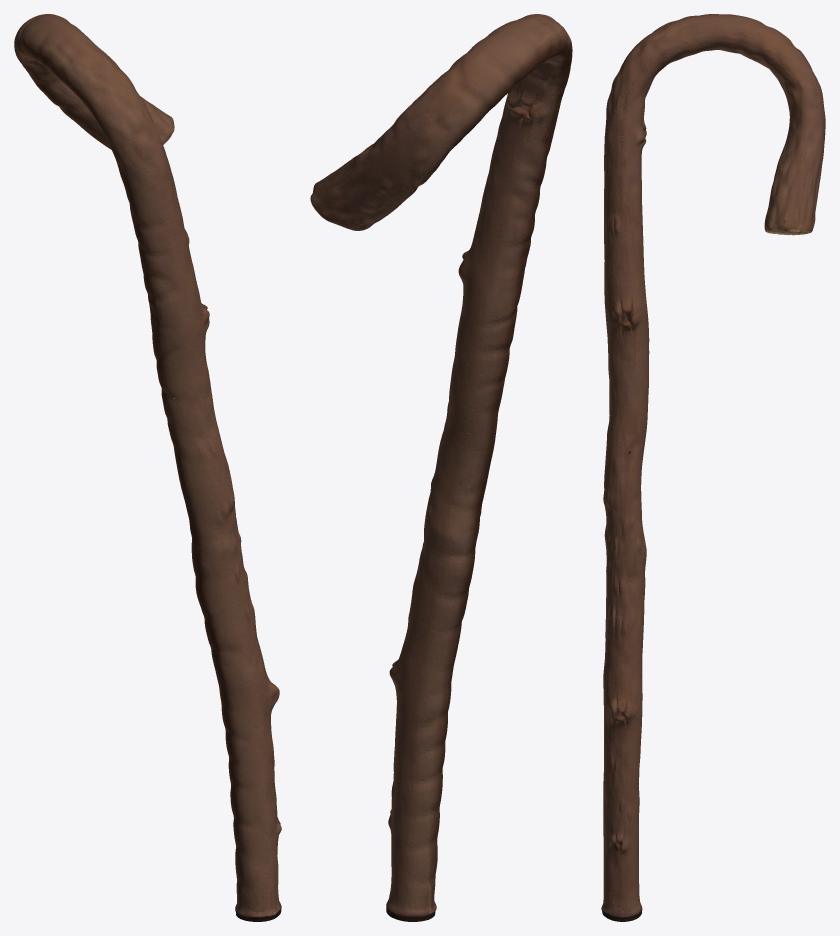
The model's file is canne.glb.
The picture shows the model from 3 angles, left to right: view 1: azimuth 30°, elevation 25°; view 2: azimuth 150°, elevation 25°; view 3: azimuth 270°, elevation 25°; orthographic projection. The views are drawn at different scales.
Parts seen in each view (by area): view 1: tripo_node_6de6b6e9-051f-4b01-b1ad-8469db1cbb79; view 2: tripo_node_6de6b6e9-051f-4b01-b1ad-8469db1cbb79; view 3: tripo_node_6de6b6e9-051f-4b01-b1ad-8469db1cbb79.
Part boxes in pixels (x1,y1,x2,y2): tripo_node_6de6b6e9-051f-4b01-b1ad-8469db1cbb79: (14,14,281,921); tripo_node_6de6b6e9-051f-4b01-b1ad-8469db1cbb79: (310,14,572,921); tripo_node_6de6b6e9-051f-4b01-b1ad-8469db1cbb79: (601,14,825,921).
Bounding box in the file's own units: 0.2222 × 0.9792 × 0.2399.
Materials: 1 (1 with a texture image).
